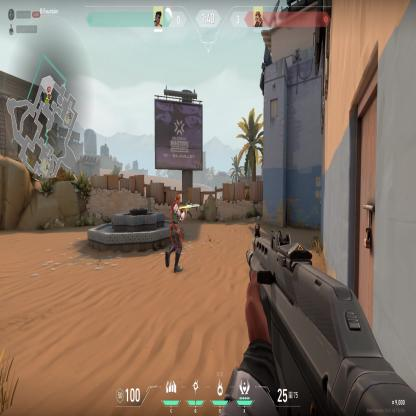enemy: (165, 192, 183, 275)
